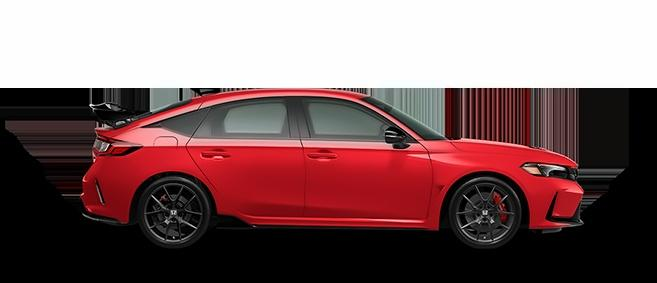Car hood: (449, 136, 570, 160)
Driver-s door - -F-R-: (292, 91, 436, 223)
Fender - -F-R-: (421, 140, 523, 216)
Fender - -R-R-: (113, 125, 211, 219)
Front bumper: (519, 175, 594, 235)
Headlight - -R-: (519, 161, 581, 182)
Passenger-s door - -R-R-: (182, 93, 309, 222)
Rear bumper: (78, 154, 148, 228)
Rear light - -R-: (87, 133, 144, 159)
Side bumper - -R-: (213, 211, 442, 240)
Side mirror - -R-: (384, 125, 412, 151)
